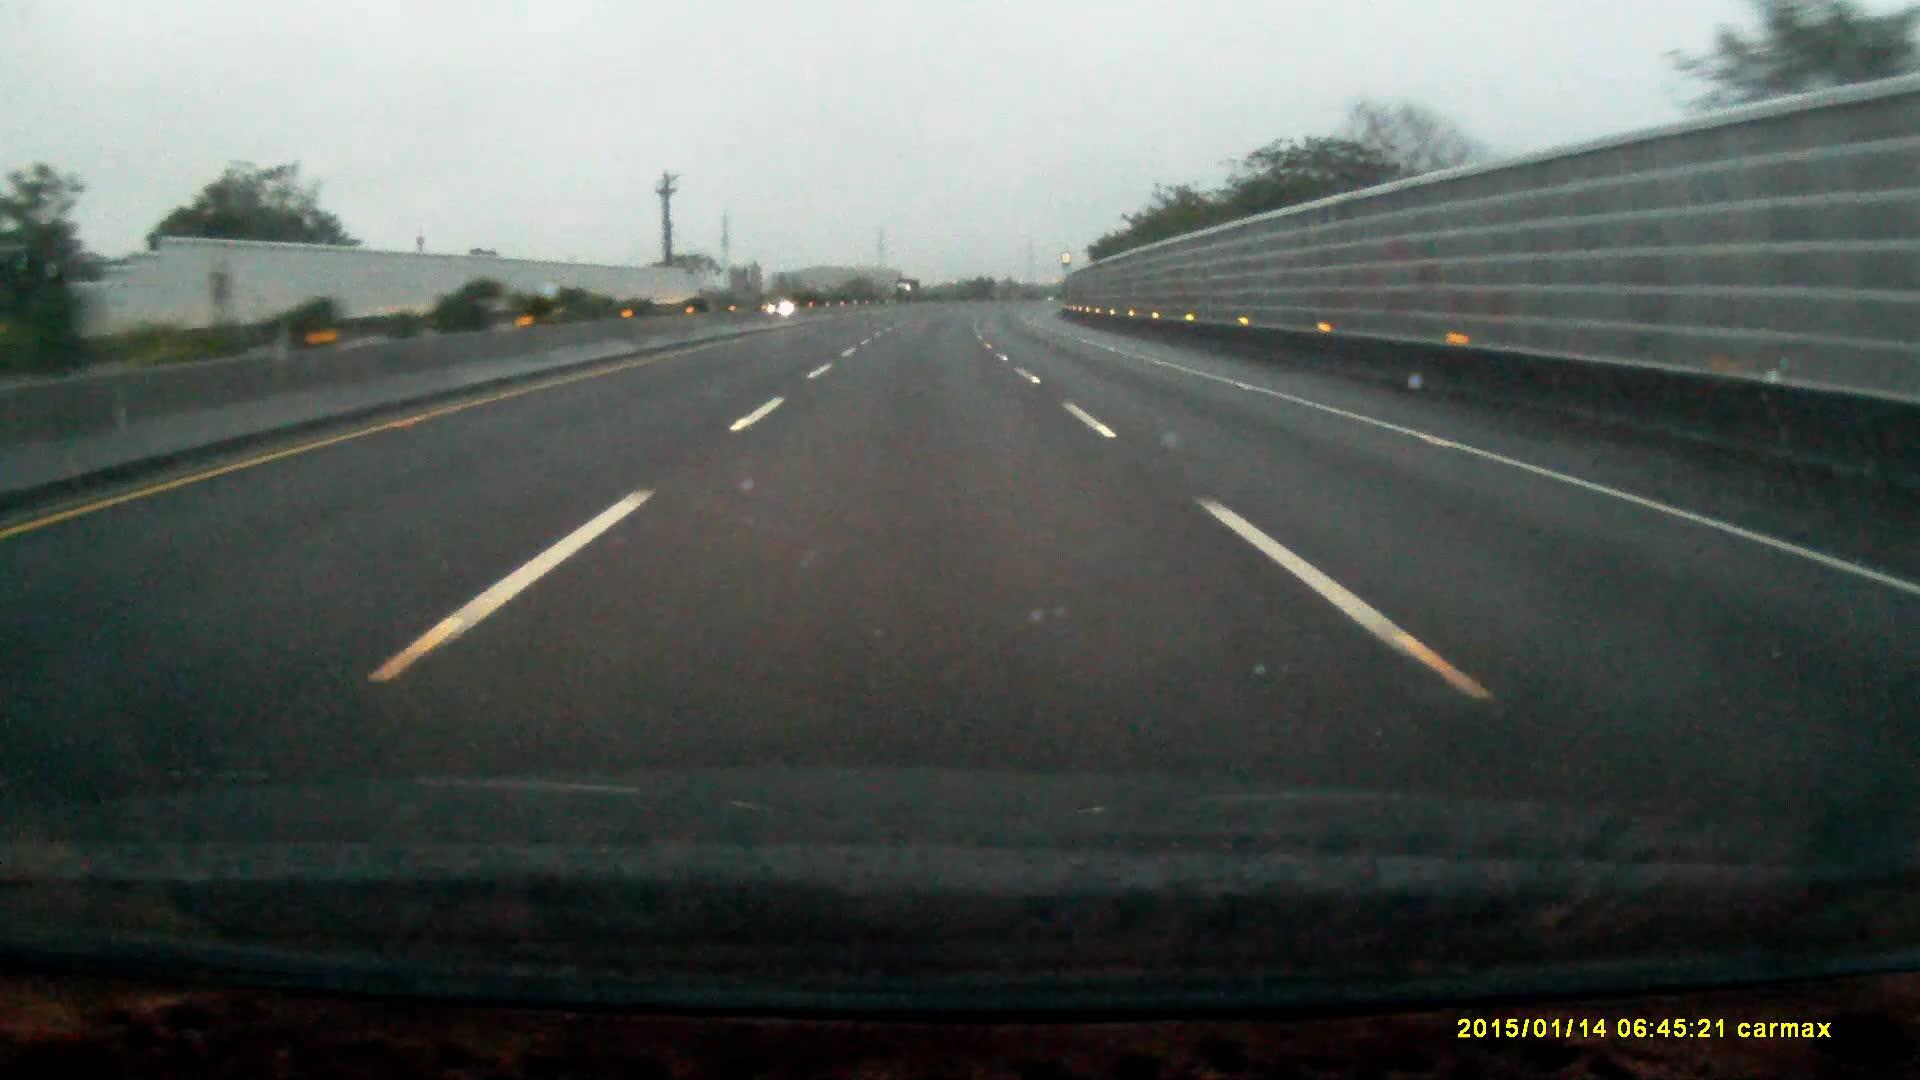vehicle: (895, 278, 920, 301)
